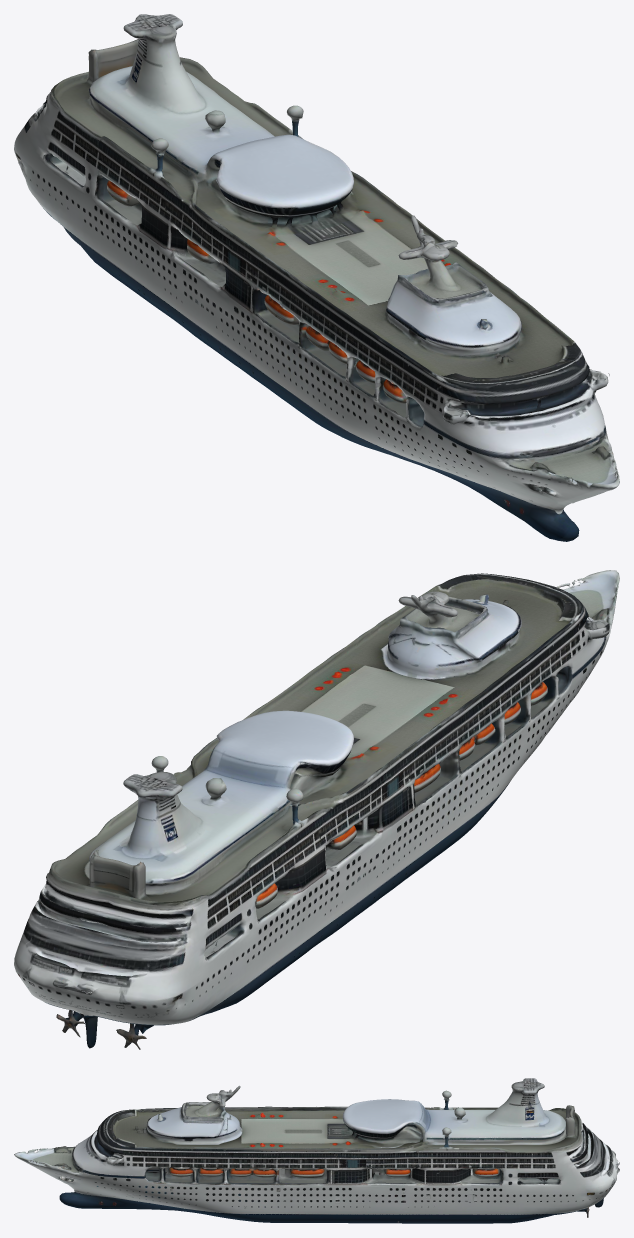
File: cruise-ship-tripo.glb
3 renders of one model, top to bottom at view 1: azimuth 30°, elevation 25°; view 2: azimuth 150°, elevation 25°; view 3: azimuth 270°, elevation 25°, orthographic. The views are drawn at different scales.
Parts seen in each view (by area): view 1: TripoCruiseShip; view 2: TripoCruiseShip; view 3: TripoCruiseShip.
Part boxes in pixels (x1,y1,x2,y2): TripoCruiseShip: (14, 14, 619, 541); TripoCruiseShip: (14, 570, 619, 1049); TripoCruiseShip: (14, 1078, 619, 1223).
Bounding box in the file's own units: 3.91 × 5.05 × 22.25.
1 material, 1 textured.
